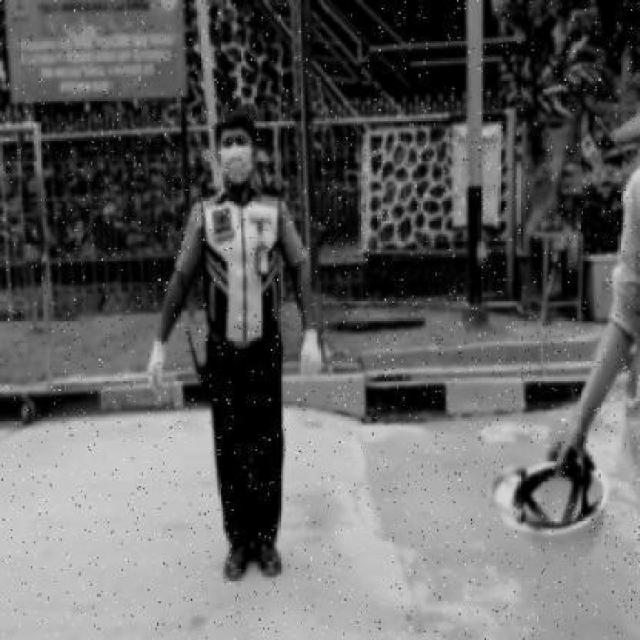Boots: (219, 540, 253, 585), (254, 541, 283, 582)
Gloves: (147, 336, 171, 398), (297, 328, 323, 383)
Helmet: (485, 450, 618, 561)
Mask: (218, 150, 254, 182)
